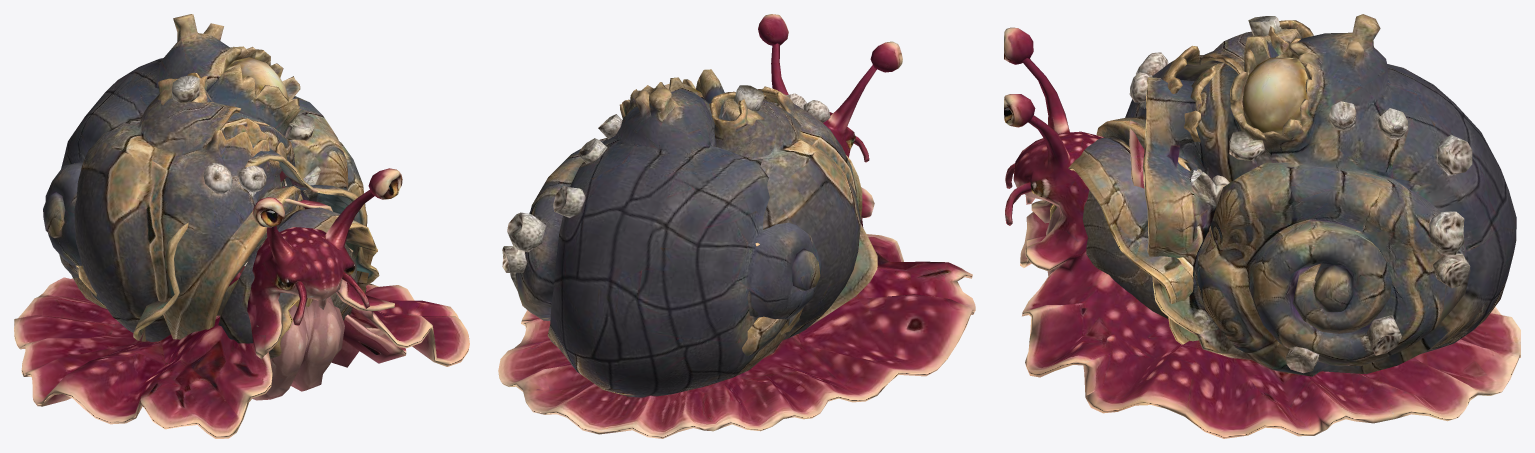
Rendered from grotto-monsters.glb.
The picture shows the model from 3 angles, left to right: view 1: azimuth 30°, elevation 25°; view 2: azimuth 150°, elevation 25°; view 3: azimuth 270°, elevation 25°; orthographic projection. The views are drawn at different scales.
Parts seen in each view (by area): view 1: mon_boss_body, mon_bossshell_shell, mon_boss_pearl, mon_boss_eyer, mon_boss_eyel; view 2: mon_boss_body, mon_bossshell_shell, mon_boss_eyel, mon_boss_eyer; view 3: mon_boss_body, mon_bossshell_shell, mon_boss_pearl, mon_boss_eyel, mon_boss_eyer.
Part boxes in pixels (x1=…): mon_boss_body: x1=14, y1=14, x2=469, y2=438; mon_bossshell_shell: x1=59, y1=72, x2=377, y2=358; mon_boss_pearl: x1=226, y1=57, x2=288, y2=99; mon_boss_eyer: x1=368, y1=168, x2=402, y2=199; mon_boss_eyel: x1=252, y1=197, x2=284, y2=227; mon_boss_body: x1=498, y1=43, x2=975, y2=438; mon_bossshell_shell: x1=709, y1=86, x2=860, y2=356; mon_boss_eyel: x1=870, y1=41, x2=902, y2=72; mon_boss_eyer: x1=758, y1=14, x2=788, y2=45; mon_boss_body: x1=1005, y1=14, x2=1520, y2=438; mon_bossshell_shell: x1=1050, y1=20, x2=1313, y2=344; mon_boss_pearl: x1=1242, y1=57, x2=1308, y2=133; mon_boss_eyel: x1=1004, y1=27, x2=1033, y2=64; mon_boss_eyer: x1=1004, y1=94, x2=1035, y2=127.
Size of the model in its own units: 6.41 by 4.67 by 6.5.
5 materials, 5 textured.
